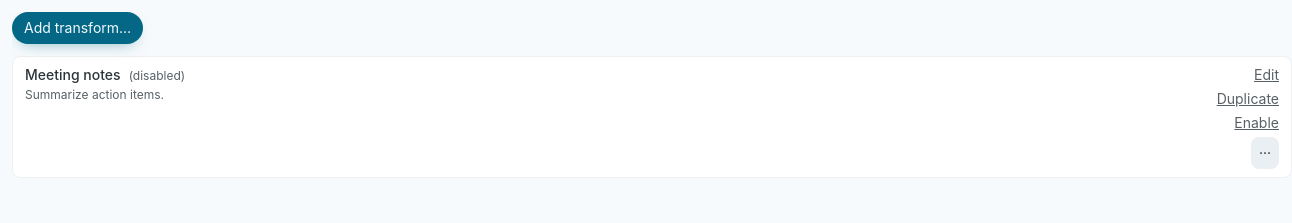
Test: TransformsManager › reports name lookup failures without creating a draft
What coordinates should you click on to do the following:
click the button "Duplicate"
I would click on:
 (1248, 99)
Its box is [1217,89,1279,109].
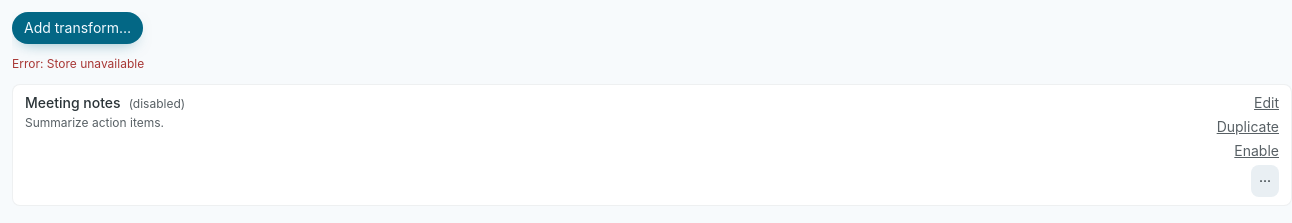
Check: the text "Store unavailable" is shown, box [12,56,144,71]
